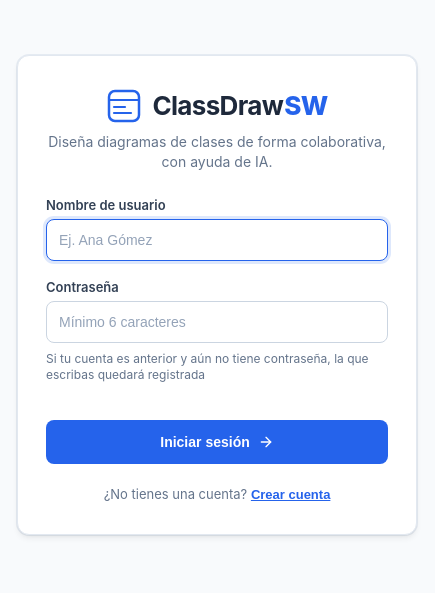
LoginScreen Component › shows friendly network error when fetch fails
Type "Carlos" into the field labelled "Nombre de usuario" at (217, 240), box [46,218,388,260]
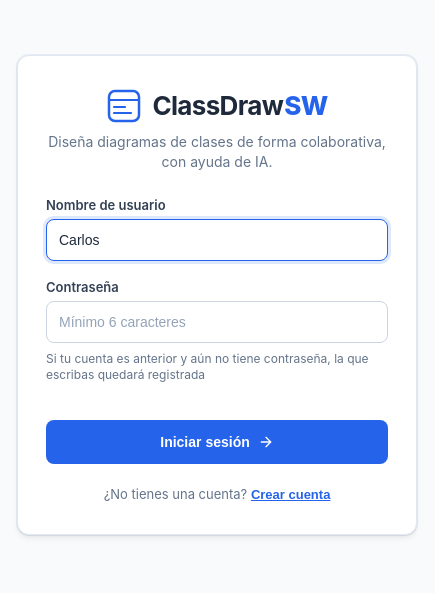
Type "password123" into the password field labelled "Contraseña" at (217, 322), box [46,300,388,342]
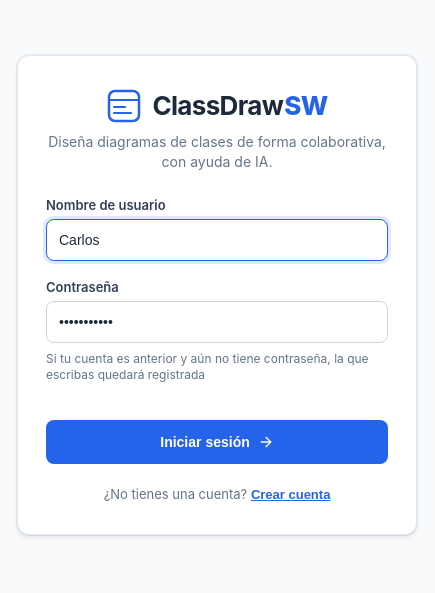
Click the button "Iniciar sesión" at (217, 442), box [46,420,388,464]
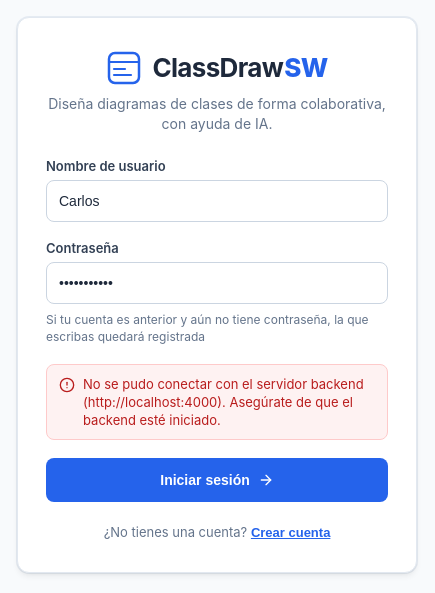
Now the message shows "No se pudo conectar con el servidor backend", box [83,376,364,428]
